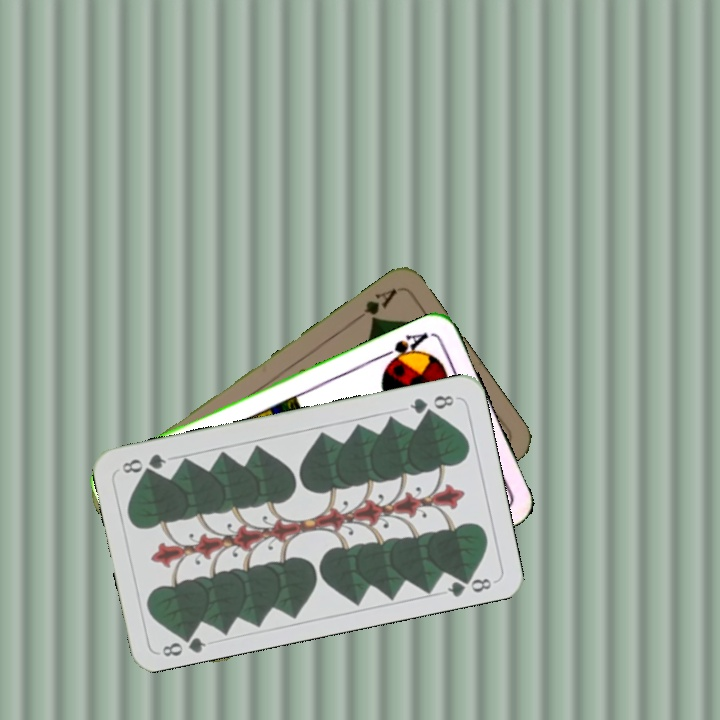G8: (158, 627, 209, 660), (405, 391, 457, 417)
GA: (348, 284, 400, 325)
SA: (377, 327, 431, 370)
